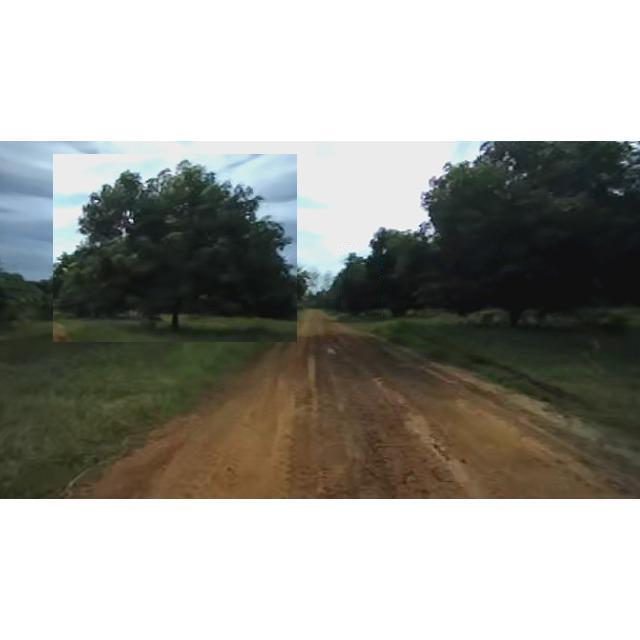direk: (53, 154, 297, 342), (412, 143, 640, 331), (371, 216, 463, 328), (340, 244, 382, 320)
